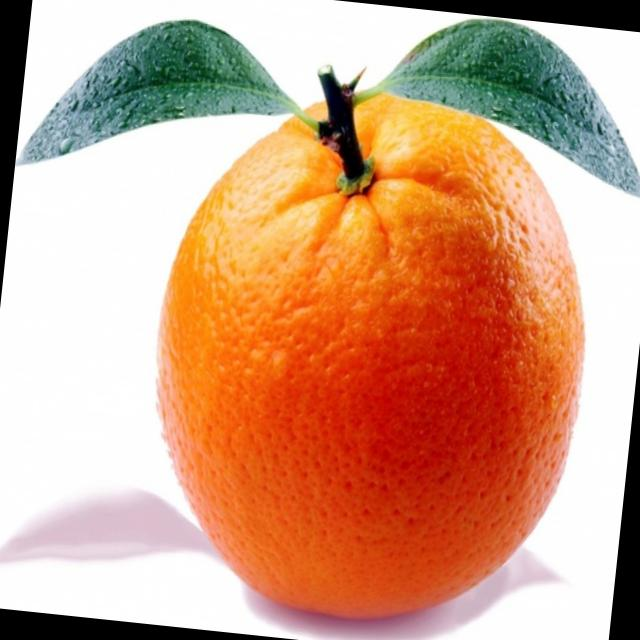orange: (129, 79, 601, 640)
